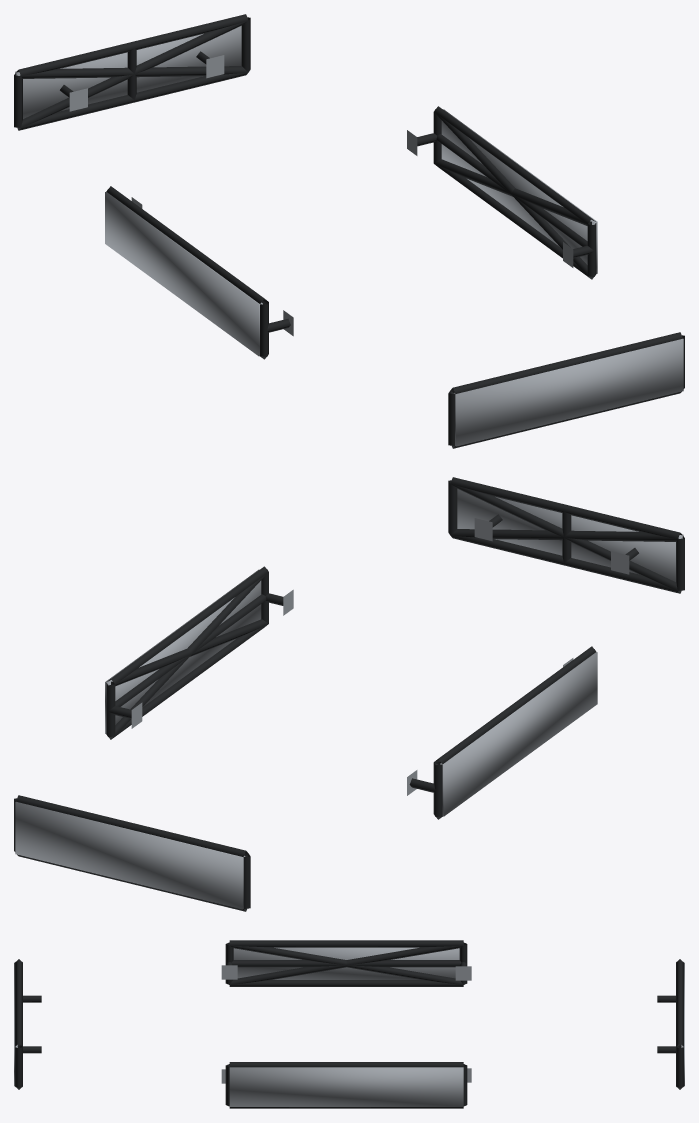
File: hayase_deriva_protecao.glb
The picture shows the model from 3 angles, top to bottom: view 1: azimuth 30°, elevation 25°; view 2: azimuth 150°, elevation 25°; view 3: azimuth 270°, elevation 25°; orthographic projection. The views are drawn at different scales.
Parts seen in each view (by area): view 1: Protection_front_Level3_Details, Protection_left_Level3_Details, Protection_rear_Level1_Details, Protection_rear_Level3_Details, Protection_right_Level1_Details, Protection_rear_Level2_Details, Protection_right_Level2_Details, Protection_right_Level3_Details, Protection_front_Level1_Details, Protection_left_Level1_Details; view 2: Protection_rear_Level3_Details, Protection_left_Level3_Details, Protection_front_Level1_Details, Protection_front_Level3_Details, Protection_right_Level1_Details, Protection_front_Level2_Details, Protection_right_Level2_Details, Protection_right_Level3_Details, Protection_rear_Level1_Details, Protection_left_Level1_Details; view 3: Protection_right_Level3_Details, Protection_left_Level2_Details, Protection_left_Level1_Details, Protection_left_Level3_Details, Protection_right_Level1_Details, Protection_rear_Level1_Details, Protection_front_Level1_Details.
Boxes of the visible parts, x1,y1,x2,y2 form: Protection_front_Level3_Details: (453, 338, 683, 446); Protection_left_Level3_Details: (105, 191, 262, 356); Protection_rear_Level1_Details: (14, 14, 250, 130); Protection_rear_Level3_Details: (15, 26, 241, 118); Protection_right_Level1_Details: (407, 106, 596, 279); Protection_rear_Level2_Details: (16, 21, 248, 129); Protection_right_Level2_Details: (434, 112, 595, 278); Protection_right_Level3_Details: (441, 109, 597, 273); Protection_front_Level1_Details: (448, 332, 684, 448); Protection_left_Level1_Details: (106, 186, 293, 359); Protection_rear_Level3_Details: (15, 801, 245, 909); Protection_left_Level3_Details: (440, 652, 597, 816); Protection_front_Level1_Details: (448, 477, 684, 593); Protection_front_Level3_Details: (457, 489, 683, 581); Protection_right_Level1_Details: (106, 566, 293, 739); Protection_front_Level2_Details: (450, 484, 682, 592); Protection_right_Level2_Details: (107, 572, 268, 739); Protection_right_Level3_Details: (105, 569, 261, 733); Protection_rear_Level1_Details: (14, 795, 250, 911); Protection_left_Level1_Details: (407, 646, 596, 819); Protection_right_Level3_Details: (229, 1067, 463, 1106); Protection_left_Level2_Details: (229, 943, 463, 984); Protection_left_Level1_Details: (221, 940, 471, 986); Protection_left_Level3_Details: (233, 947, 459, 979); Protection_right_Level1_Details: (221, 1062, 471, 1108); Protection_rear_Level1_Details: (657, 959, 683, 1089); Protection_front_Level1_Details: (15, 959, 41, 1089).
Size of the model in its own units: 2.05 by 0.354 by 4.62.
Materials: 1 (1 with a texture image).
